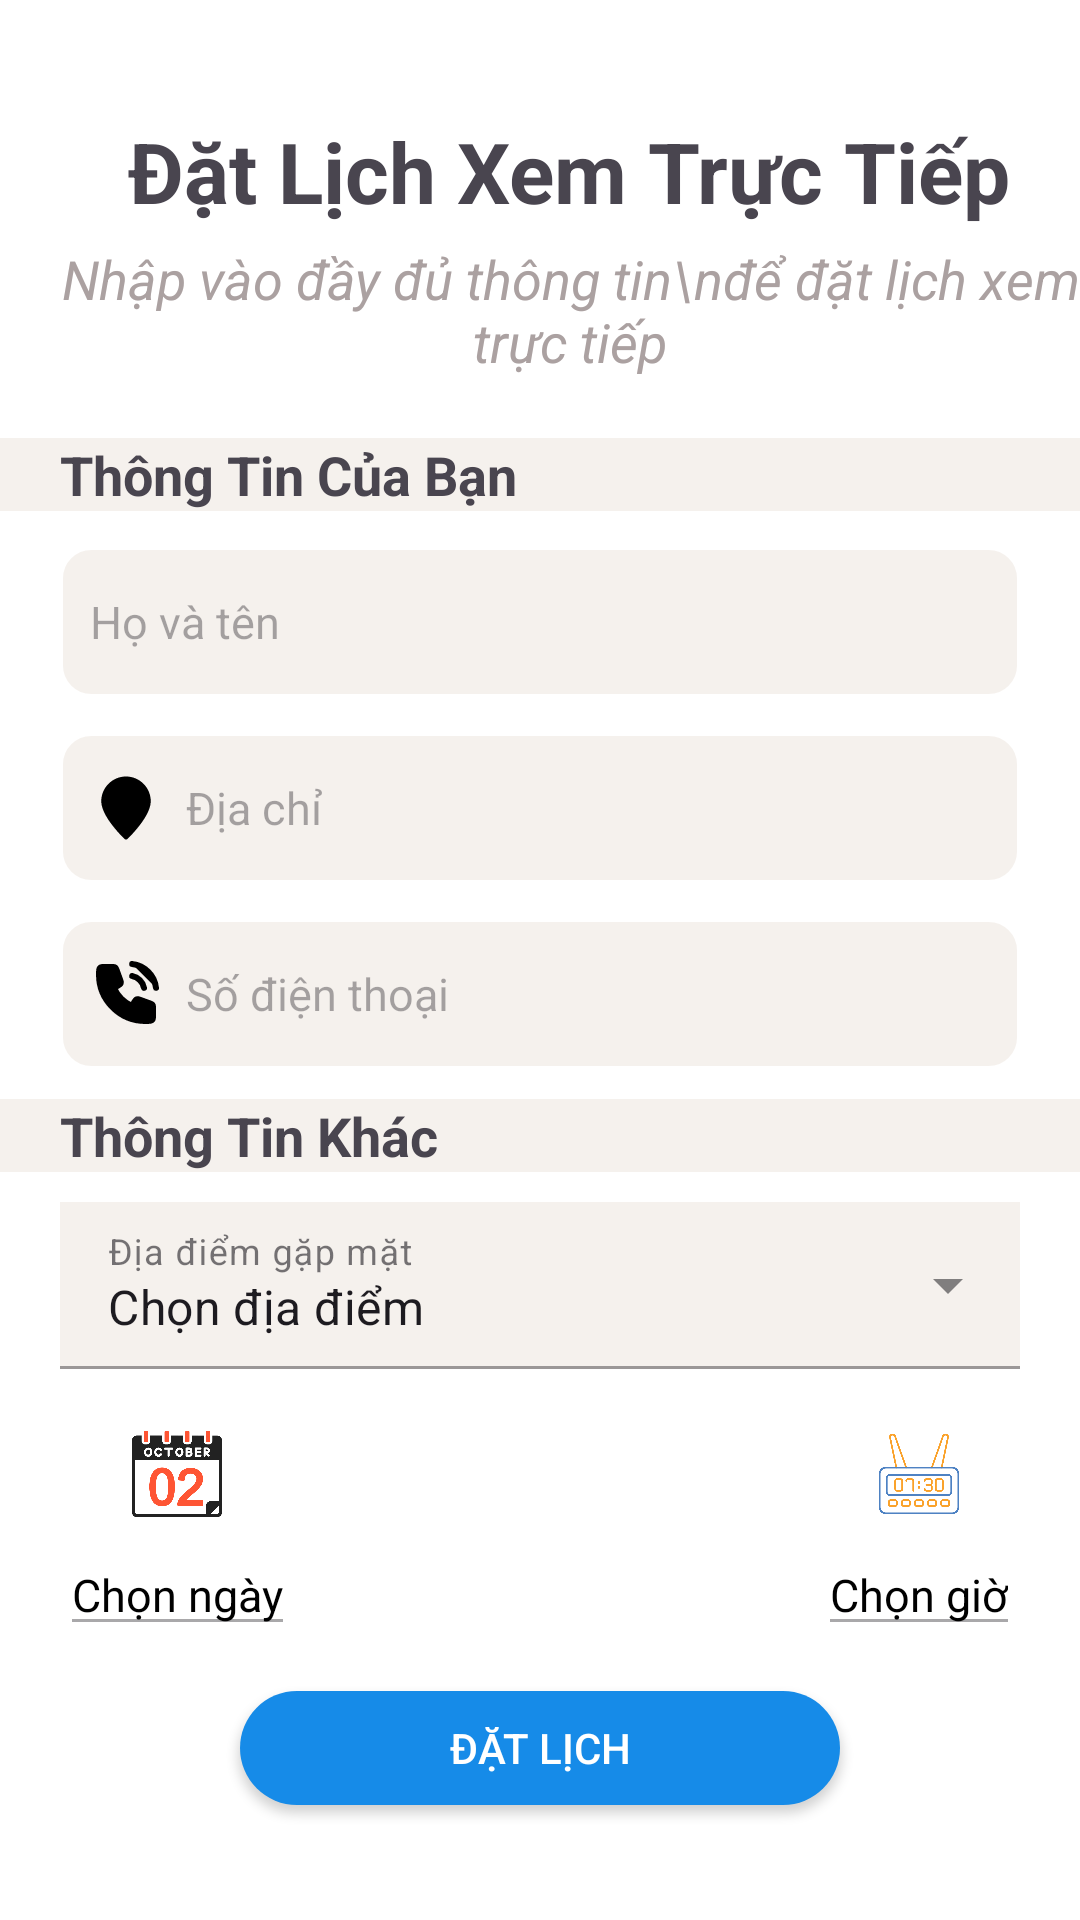

Icons on this 1080×1920 Android screen, each with the point to tap as [x,y]:
date: [177,1474]
time: [919,1474]
